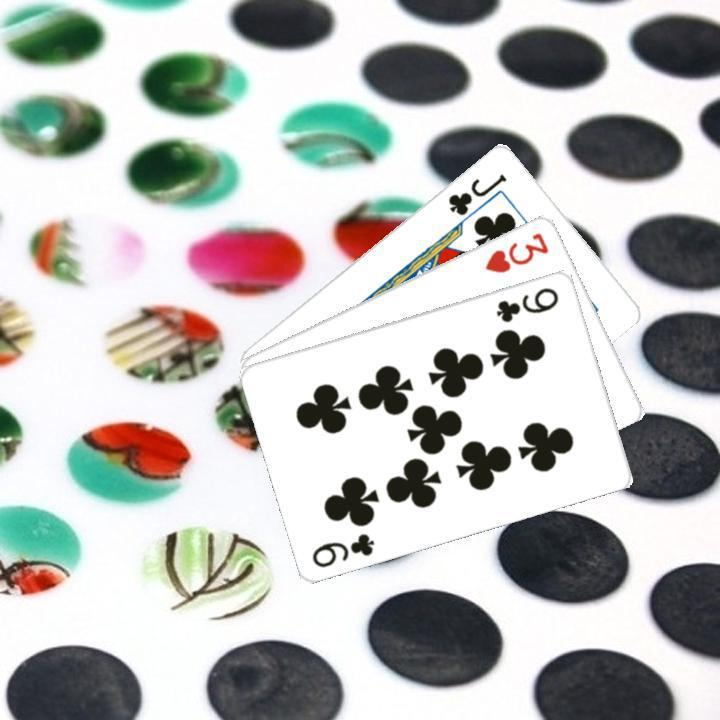3: (480, 227, 551, 275)
9: (491, 282, 561, 324), (308, 528, 377, 569)
J: (443, 169, 509, 218)
